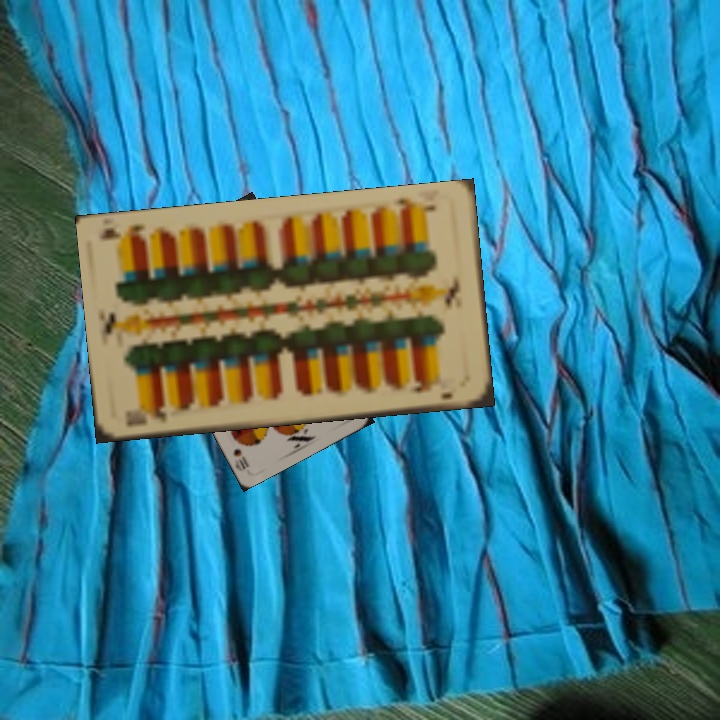E10: (122, 401, 168, 429), (390, 193, 439, 214)
